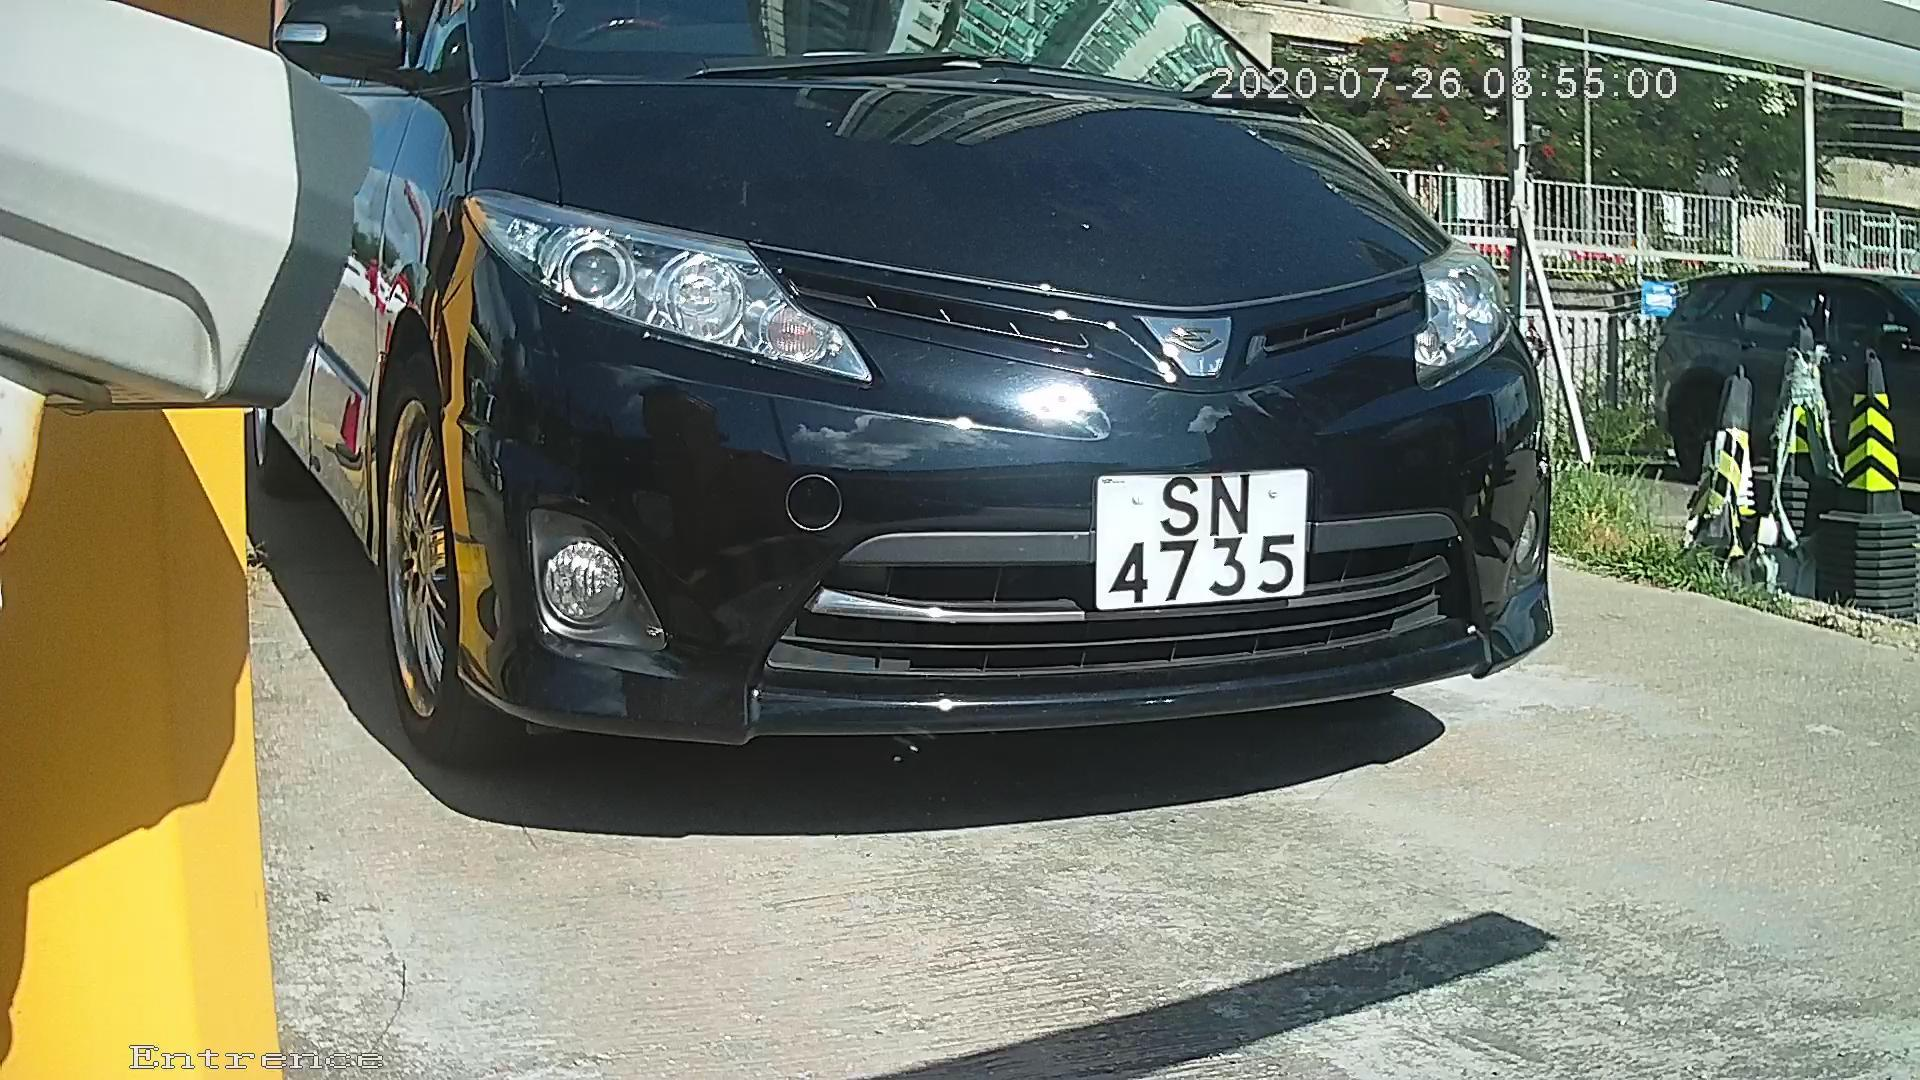privatecar: (301, 15, 1526, 825)
